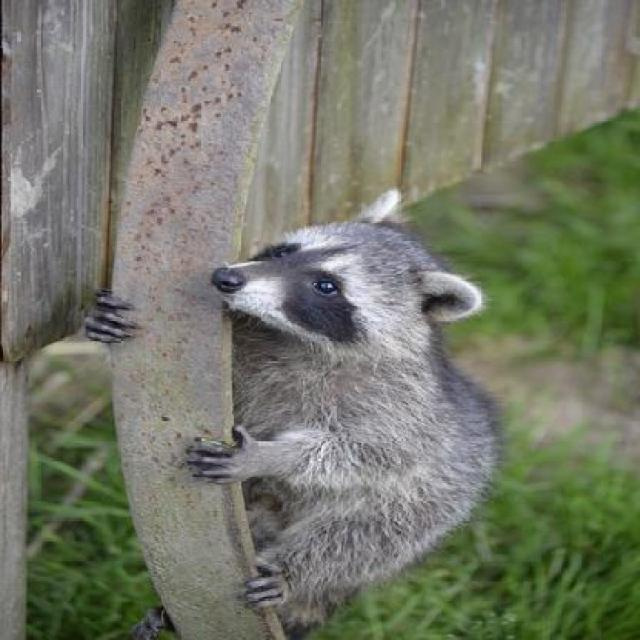raccon: (81, 184, 506, 640)
